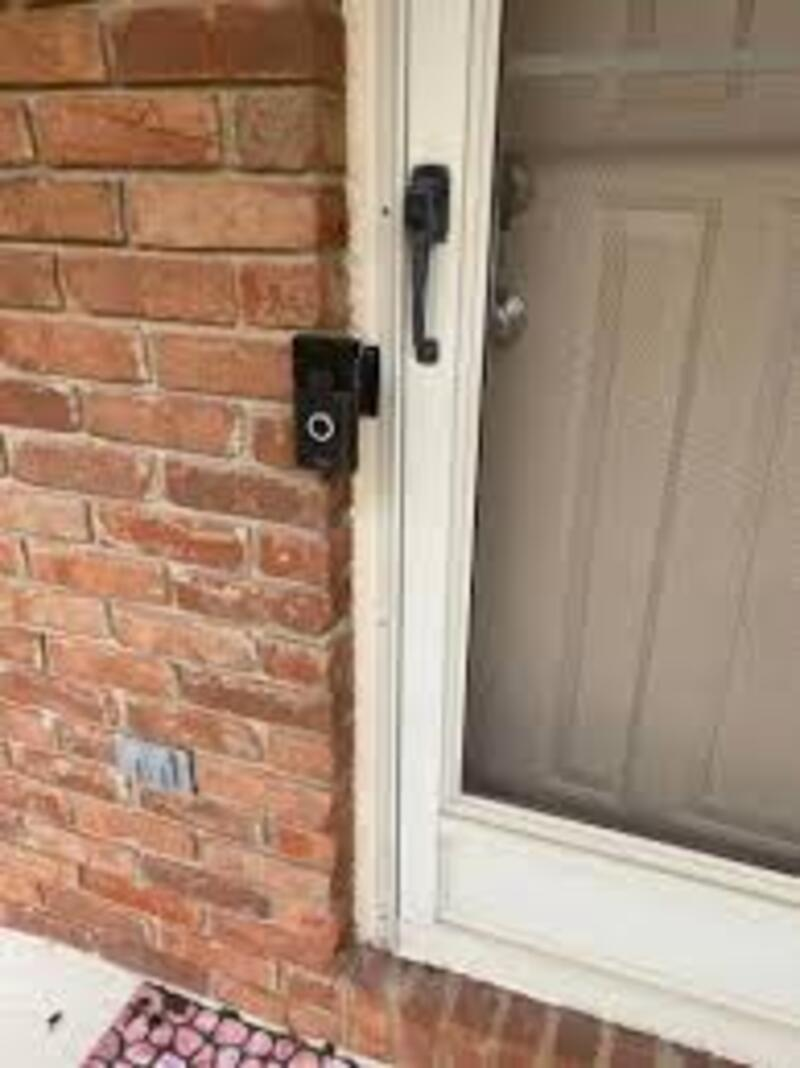doorbell: (284, 314, 362, 488)
